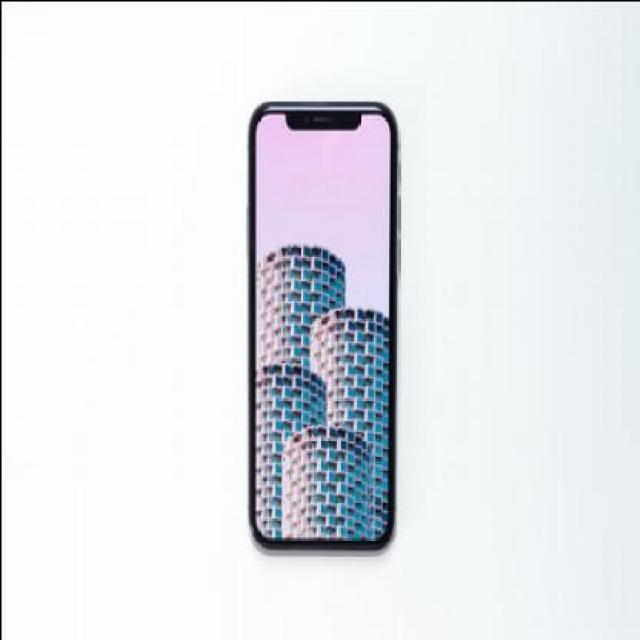phone: (244, 98, 401, 552)
